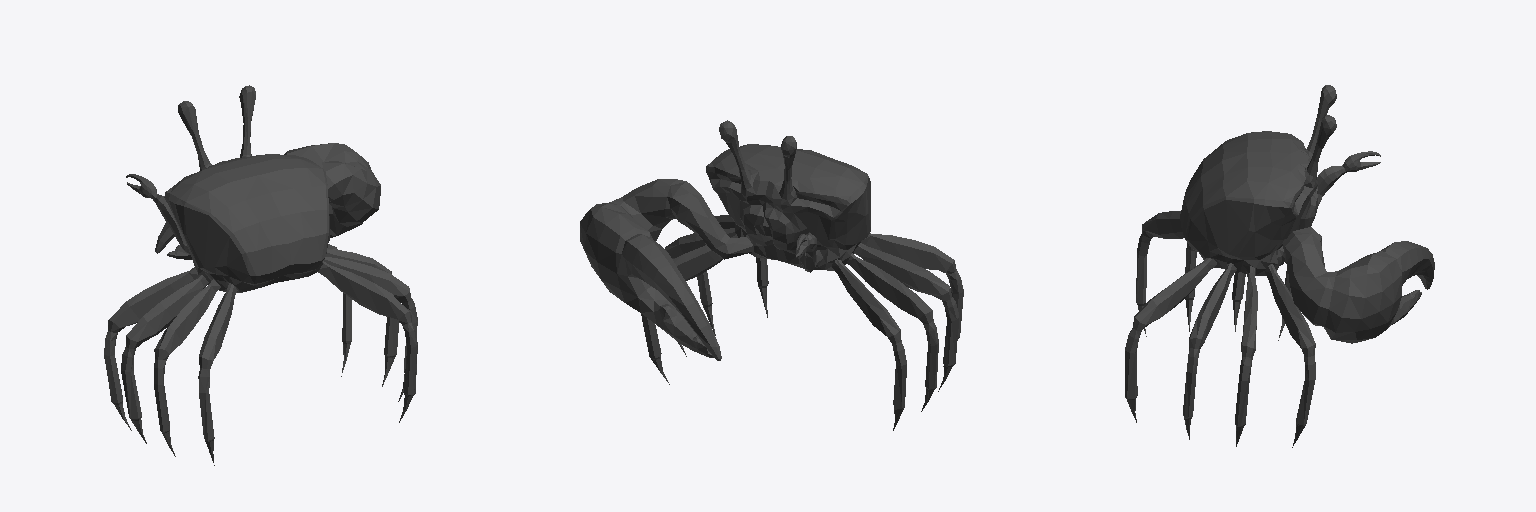
Rendered from crab.obj.
3 views of the same model, side by side, from view 1: azimuth 30°, elevation 25°; view 2: azimuth 150°, elevation 25°; view 3: azimuth 270°, elevation 25° (orthographic).
Parts seen in each view (by area): view 1: AssembledTris:polySurface17_Mesh.674; view 2: AssembledTris:polySurface17_Mesh.674; view 3: AssembledTris:polySurface17_Mesh.674.
Part boxes in pixels (left/top/right/bottom): AssembledTris:polySurface17_Mesh.674: left=104, top=85, right=417, bottom=465; AssembledTris:polySurface17_Mesh.674: left=580, top=120, right=963, bottom=430; AssembledTris:polySurface17_Mesh.674: left=1125, top=85, right=1434, bottom=447.
Size of the model in its own units: 0.177 by 0.1644 by 0.1565.